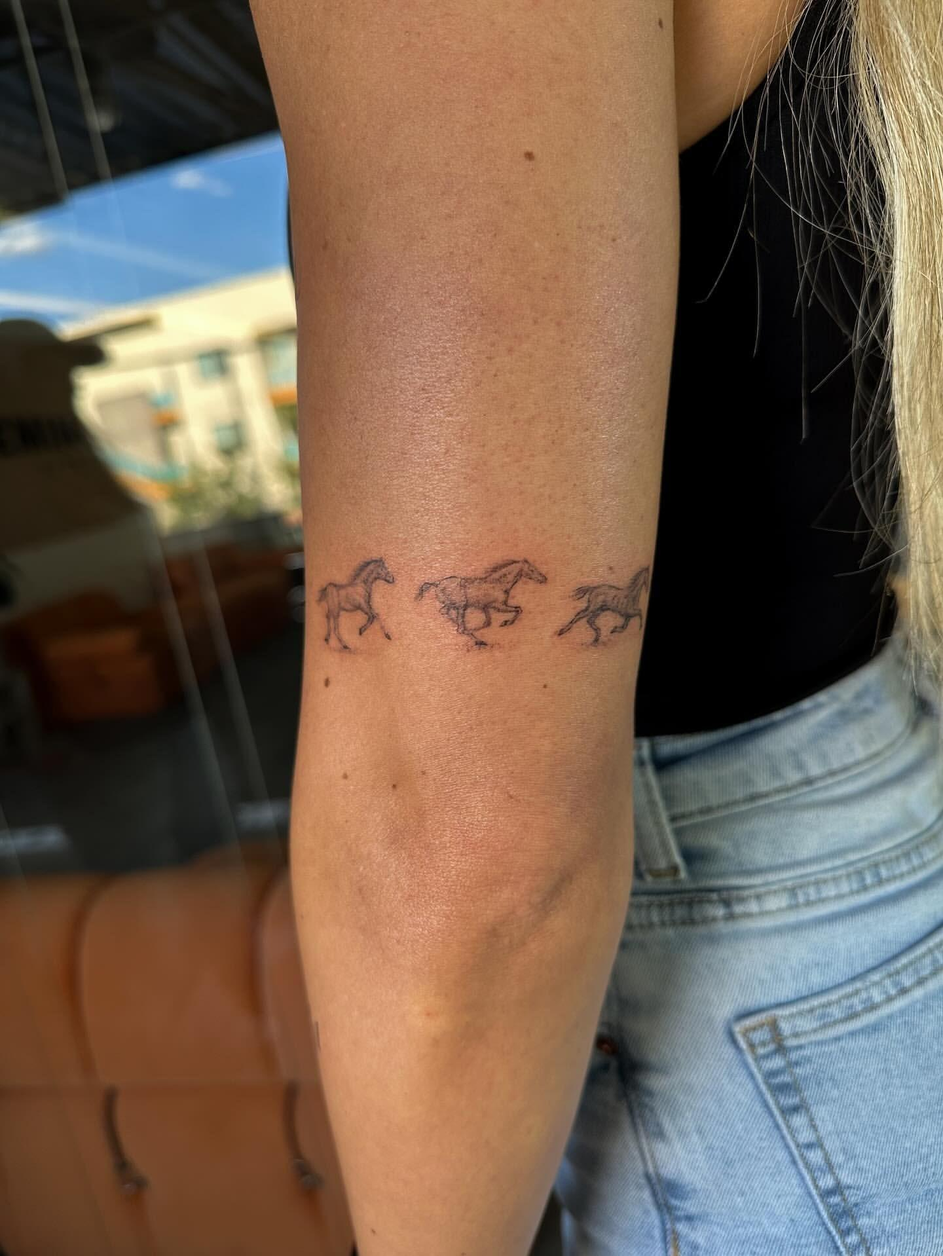non-dog: (413, 557, 549, 652), (555, 564, 652, 650), (313, 557, 397, 654)
